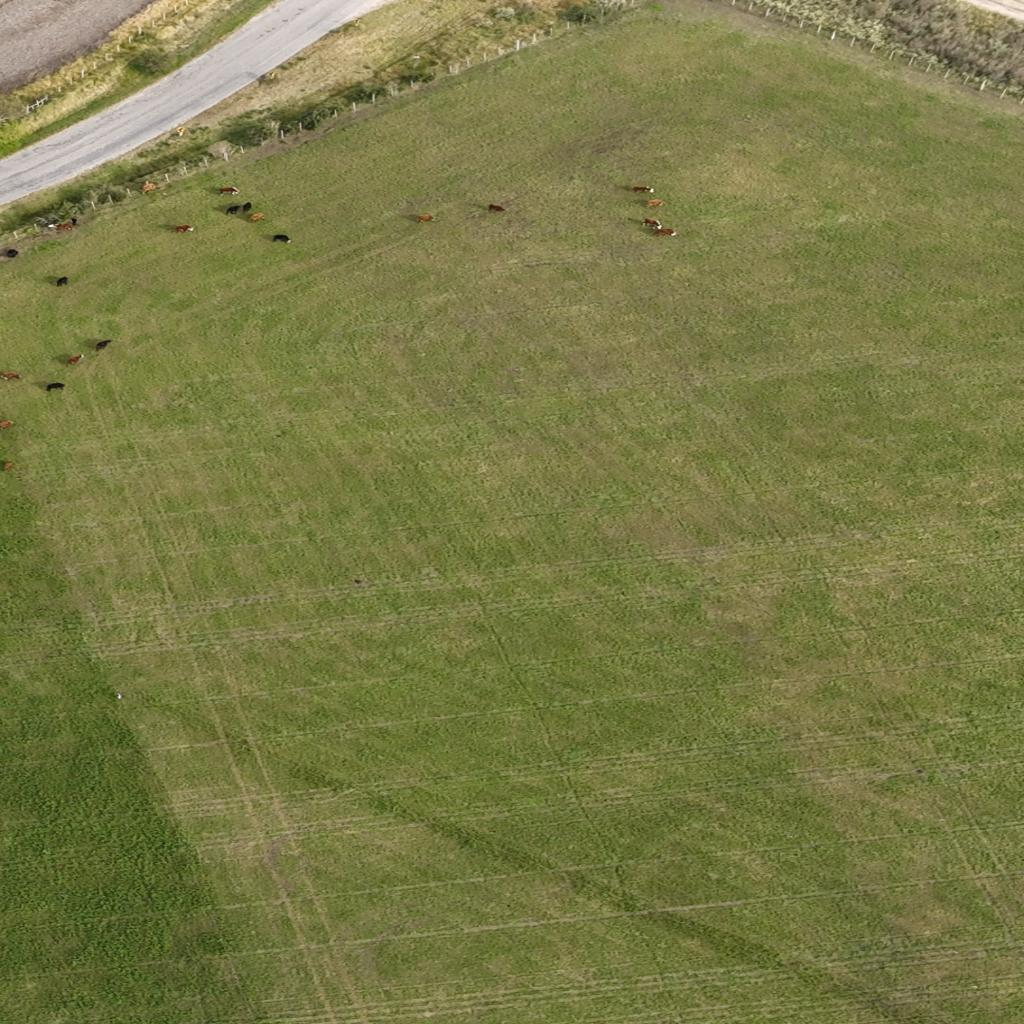cow: (172, 224, 196, 235), (55, 220, 77, 232), (92, 339, 114, 351), (642, 218, 662, 230), (218, 186, 240, 196), (223, 204, 241, 215), (35, 222, 52, 233), (653, 228, 676, 236), (272, 235, 292, 244), (46, 383, 65, 392), (66, 354, 83, 364), (632, 186, 653, 194), (1, 372, 22, 380), (142, 182, 156, 194), (645, 199, 663, 208), (417, 214, 436, 222), (3, 249, 19, 258), (0, 461, 14, 471), (488, 204, 505, 212), (248, 214, 264, 222), (0, 420, 14, 429), (243, 202, 254, 212), (56, 277, 68, 286)
